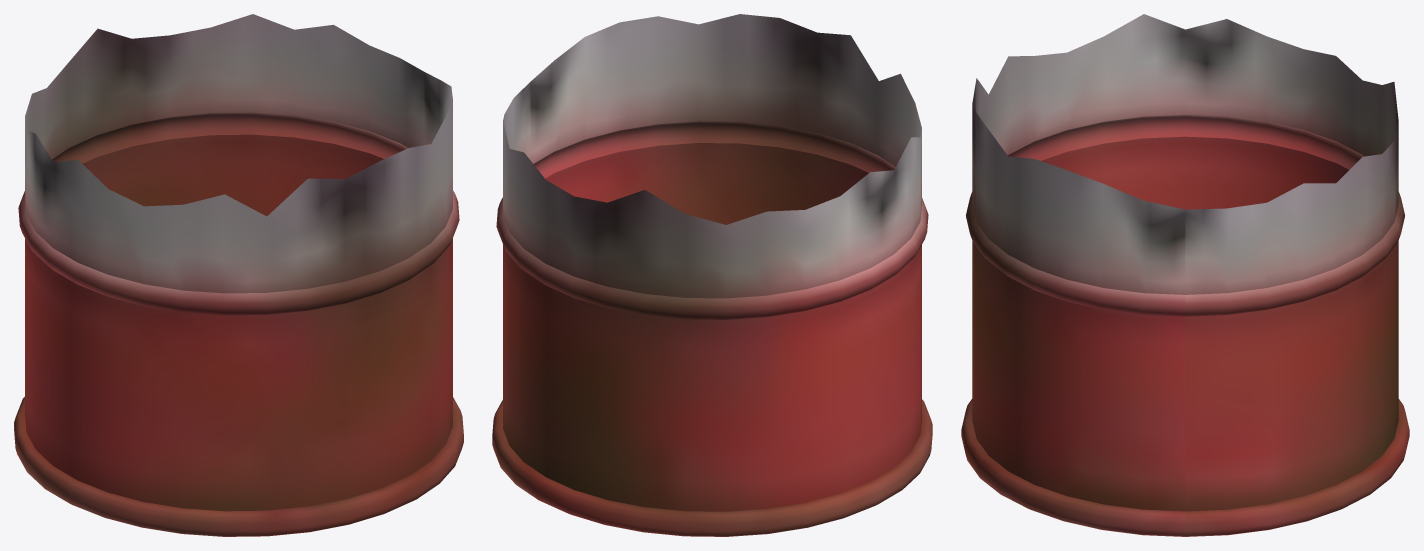
File: hazard-drum-torn--2.gltf
The picture shows the model from 3 angles, left to right: view 1: azimuth 30°, elevation 25°; view 2: azimuth 150°, elevation 25°; view 3: azimuth 270°, elevation 25°; orthographic projection. The views are drawn at different scales.
Visible parts, largest first — view 1: Cylinder.064; view 2: Cylinder.064; view 3: Cylinder.064.
Boxes of the visible parts, x1,y1,x2,y2 form: Cylinder.064: (14, 14, 463, 536); Cylinder.064: (492, 14, 932, 536); Cylinder.064: (961, 14, 1409, 536).
Size of the model in its own units: 0.5812 by 0.5 by 0.5812.
Materials: 1 (1 with a texture image).
